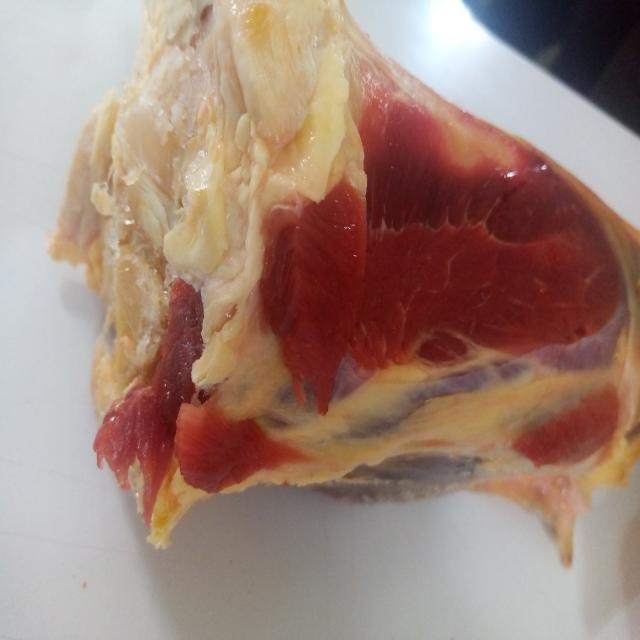beef: (6, 6, 640, 621)
